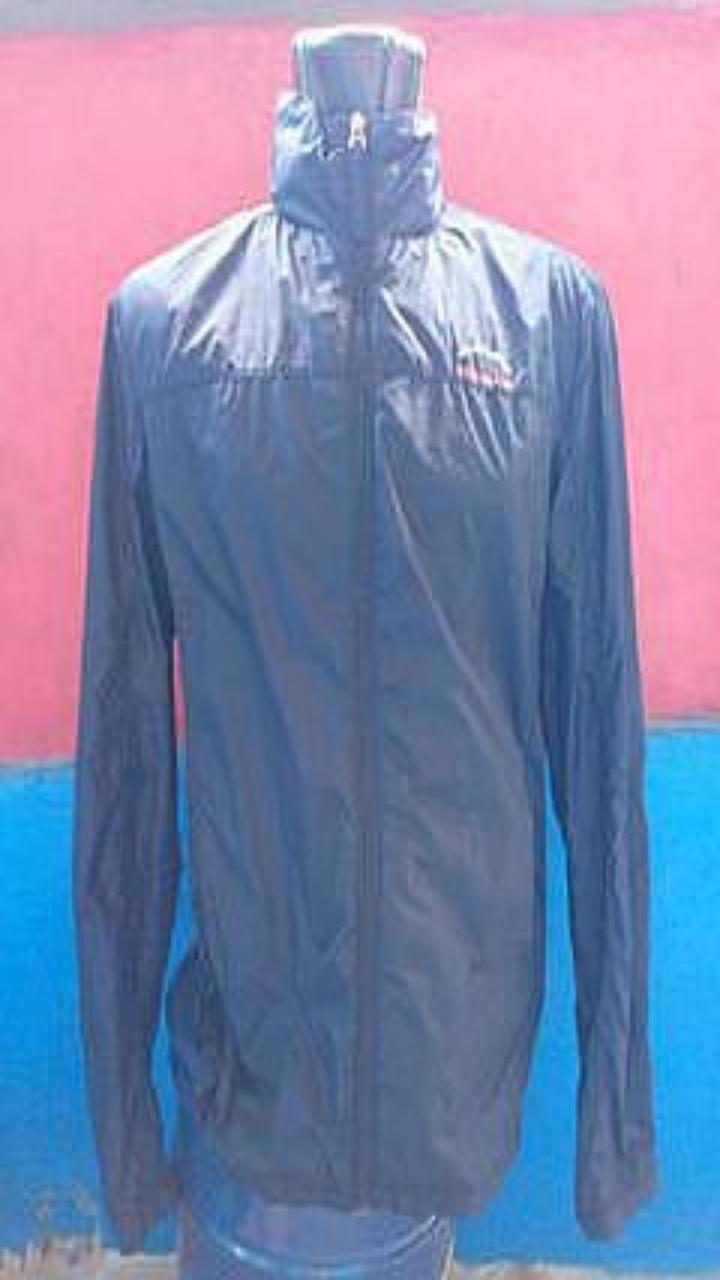Sports_Jacket: (73, 90, 656, 1251)
